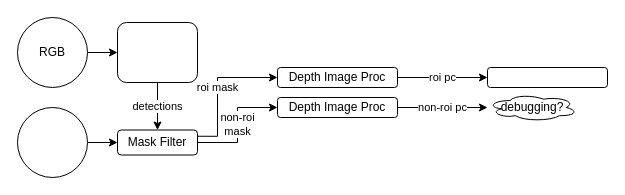
The diagram is 625 pixels wide and 195 high, and some of its shapes have lost their labels. Each missing label, with the centre of its shape:
Depth: the point at 52,142
MaskRCNN: the point at 157,52
ROI Octomap: the point at 547,77
